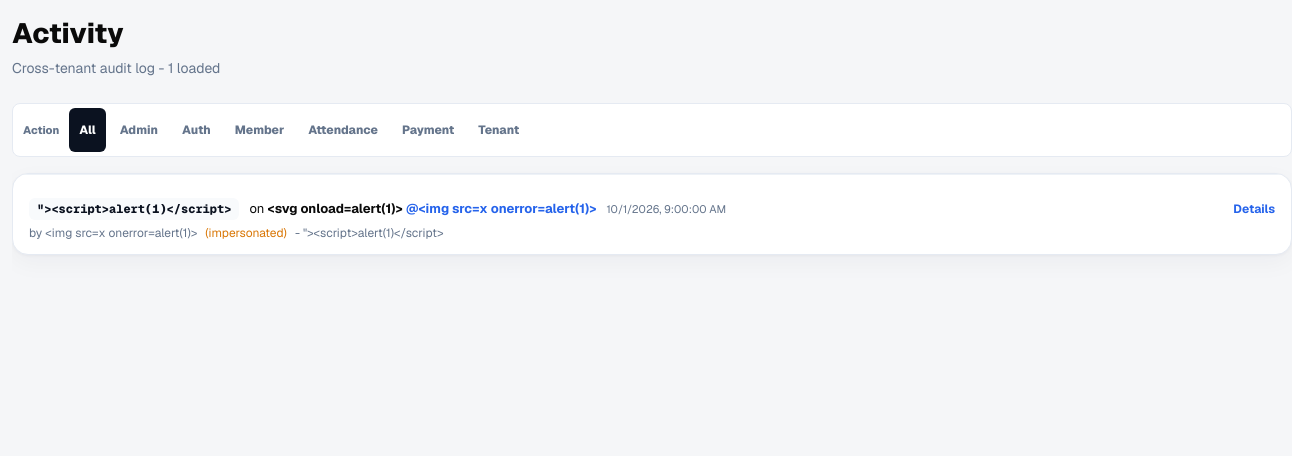
it: activity feed (cross-tenant audit log) › renders hostile audit rows and metadata as text
This screenshot has width=1292, height=456.
Expected: the text "\"><script>alert(1)</script>" is shown, [29,198,239,220]
# Expand the raw metadata view.
Click the button "Details": (1254, 209) [1233,187,1275,231]
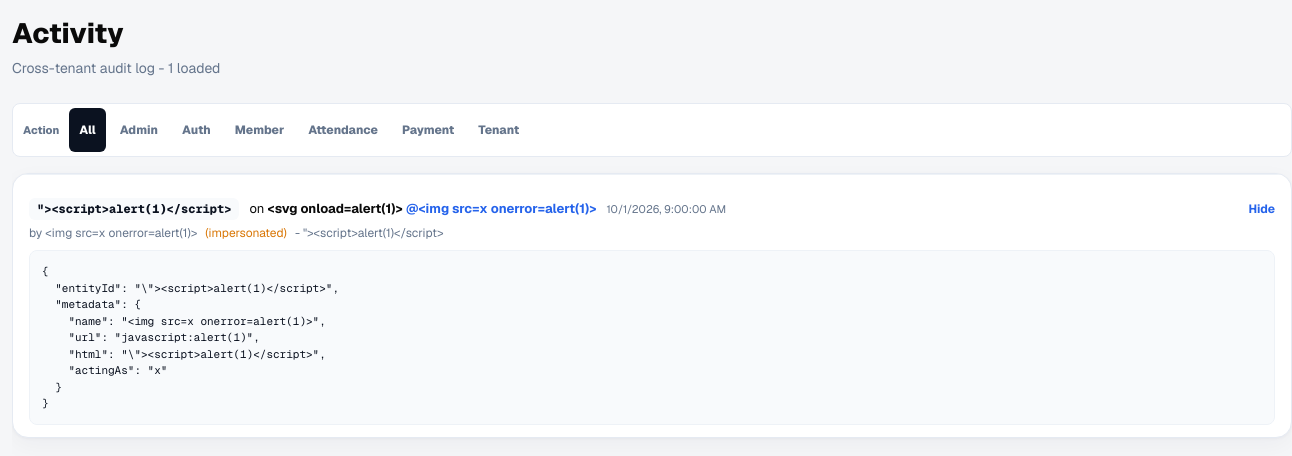
Expected: the text "<svg onload=alert(1)>" is shown, [268,200,403,217]
Expected: the text "onerror=alert(1)" is shown, [42,264,339,410]
Expected: the text "javascript:alert(1)" is shown, [42,264,339,410]
